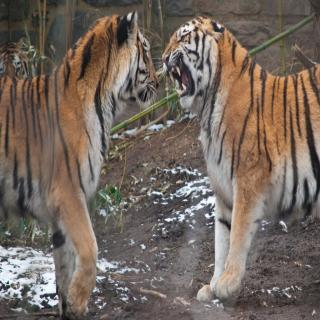Tiger: (0, 11, 156, 315), (161, 18, 320, 298)
